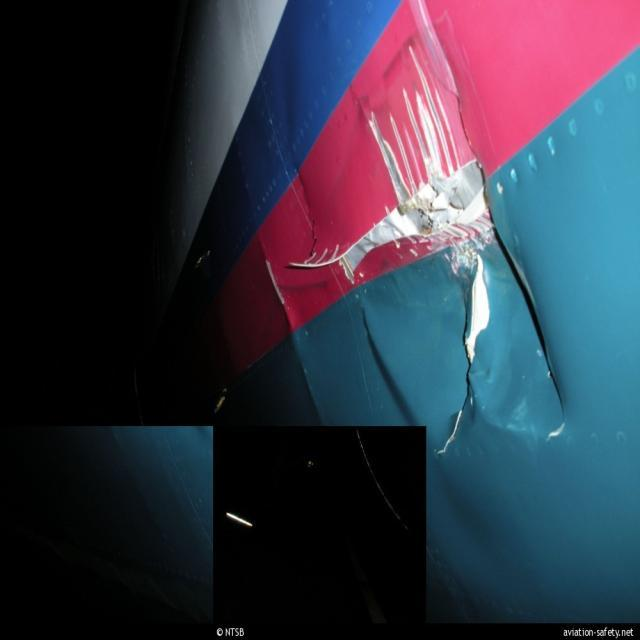crack: (431, 253, 495, 462)
dent: (482, 351, 519, 419), (494, 280, 519, 345)
